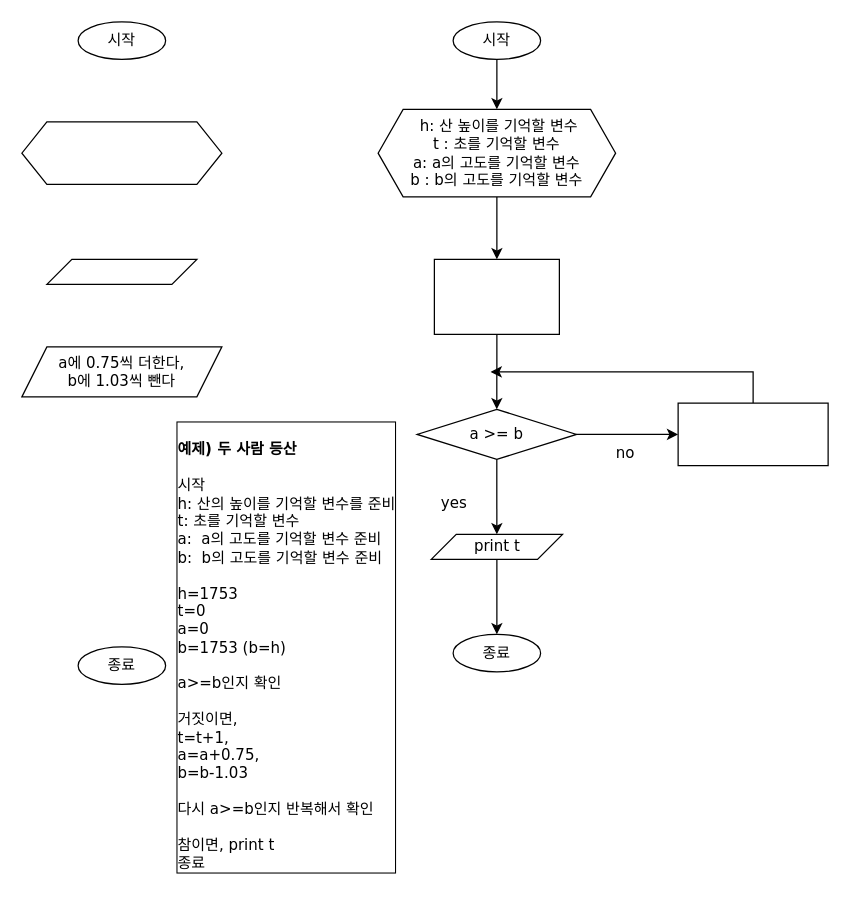
Image size: 850x906. Some labels were removed from this diagram. The shapes that lost their labels are listed below. From the top down, each one's centre as x and y in pixels, then its label:
point (121, 152): 0.75 더할 a, 1.03 뺄 b, t선언
point (121, 271): t에 0대입
point (496, 296): h=1753 t=0 a=0 b=h (b=1753)
point (752, 434): t=t+1 a=a+0.73 b=b-1.03
